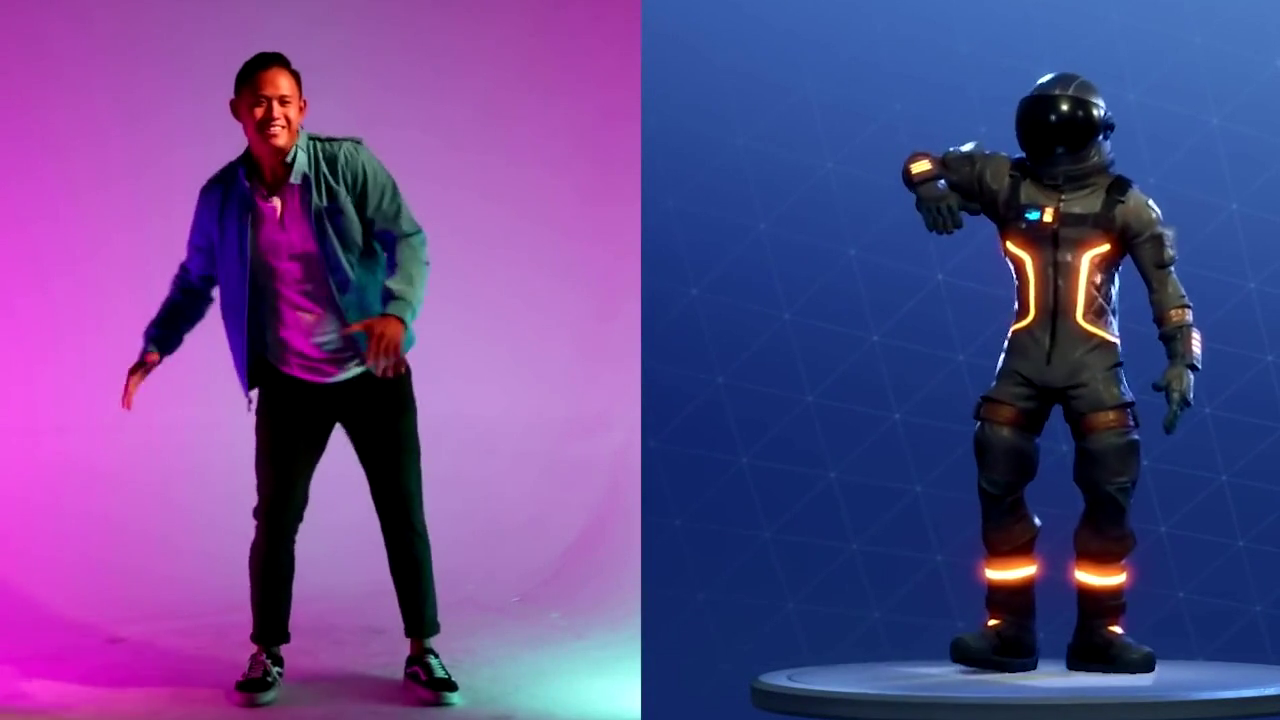Head: (220, 46, 314, 162)
Hip: (215, 361, 454, 462)
LeftAnkle: (355, 598, 482, 709)
LeftElbow: (359, 206, 457, 281)
LeftKnee: (344, 462, 454, 545)
LeftShoulder: (295, 122, 406, 205)
LeftWrist: (350, 298, 459, 393)
RightAnkle: (202, 611, 310, 709)
RightElbow: (149, 228, 238, 307)
RightKnee: (224, 453, 332, 553)
RightShoulder: (170, 161, 276, 231)
RightWrist: (101, 340, 180, 422)
Torso: (199, 169, 395, 360)
